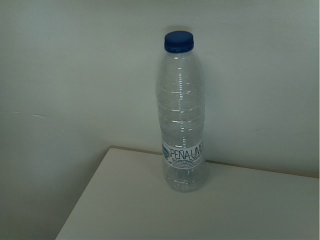botella plastico: (155, 29, 210, 197)
